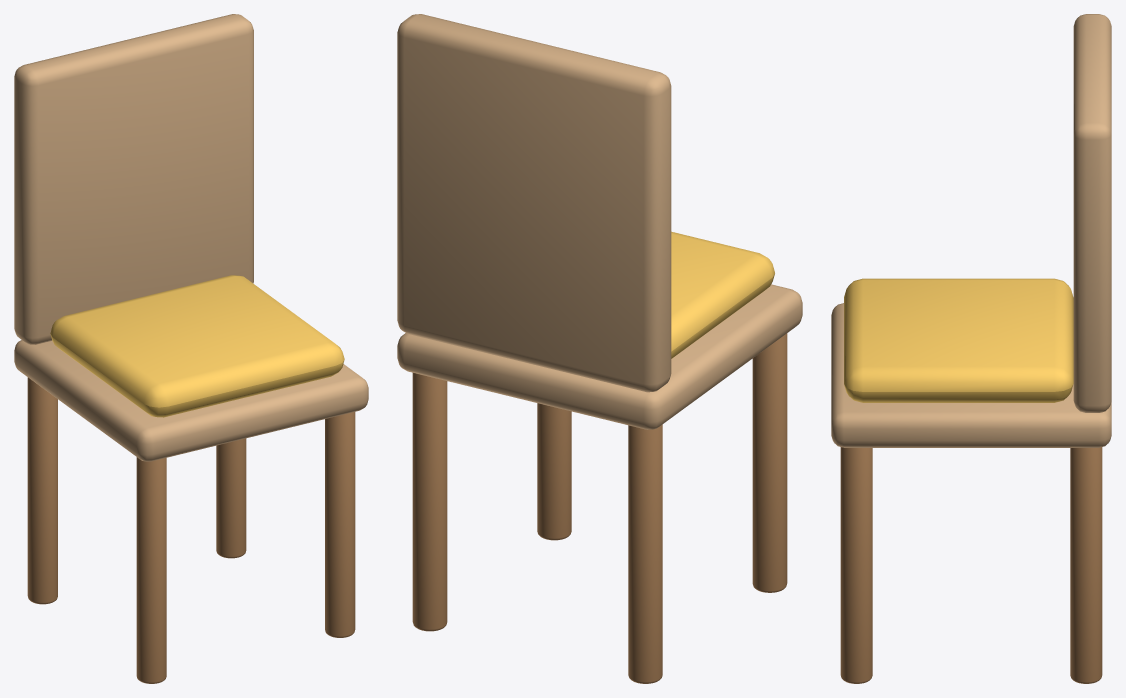
File: chair.glb
3 renders of one model, left to right at view 1: azimuth 30°, elevation 25°; view 2: azimuth 150°, elevation 25°; view 3: azimuth 270°, elevation 25°, orthographic. The views are drawn at different scales.
Parts seen in each view (by area): view 1: chair; view 2: chair; view 3: chair.
Boxes of the visible parts, bbox=[...] form: chair: bbox=[14, 14, 368, 683]; chair: bbox=[397, 14, 802, 683]; chair: bbox=[831, 14, 1111, 683].
Size of the model in its own units: 0.44 by 0.97 by 0.44.
